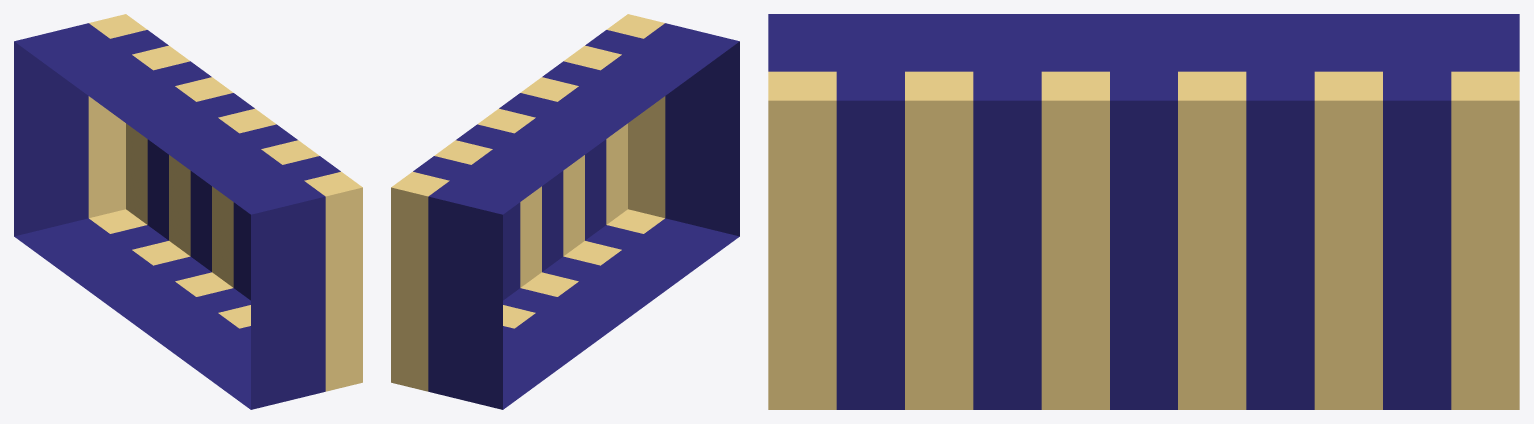
Rendered from Parte4.fbx.
3 views of the same model, side by side, from view 1: azimuth 30°, elevation 25°; view 2: azimuth 150°, elevation 25°; view 3: azimuth 270°, elevation 25° (orthographic). The views are drawn at different scales.
Parts seen in each view (by area): view 1: Salida Der; view 2: Salida Der; view 3: Salida Der.
Boxes of the visible parts, x1,y1,x2,y2 form: Salida Der: (14,14,362,409); Salida Der: (391,14,739,409); Salida Der: (768,14,1519,409).
Size of the model in its own units: 30 by 50 by 110.
Materials: 1 (1 with a texture image).
